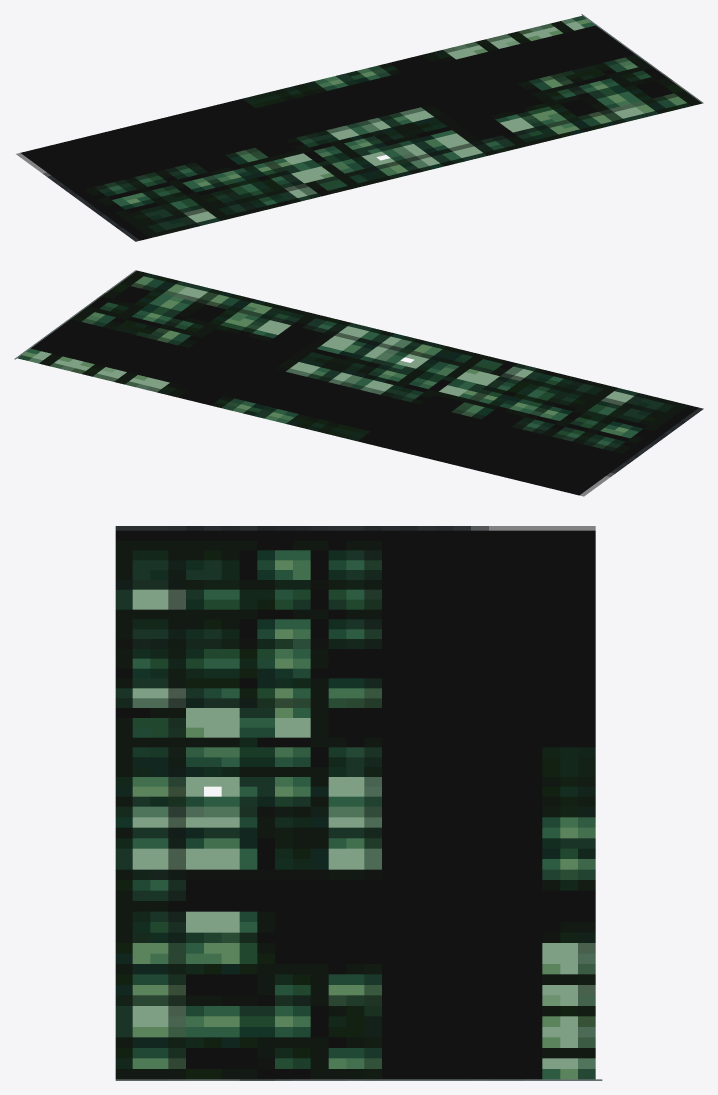
The model's file is keyboard_digi.glb.
The picture shows the model from 3 angles, top to bottom: view 1: azimuth 30°, elevation 25°; view 2: azimuth 150°, elevation 25°; view 3: azimuth 270°, elevation 25°; orthographic projection. The views are drawn at different scales.
Visible parts, largest first — view 1: Chair01.001; view 2: Chair01.001; view 3: Chair01.001.
Boxes of the visible parts, <box> form: Chair01.001: <box>16,14,703,241</box>; Chair01.001: <box>14,270,703,496</box>; Chair01.001: <box>115,526,602,1080</box>.
Bounding box in the file's own units: 0.6795 × 0 × 0.2518.
1 material, 1 textured.
